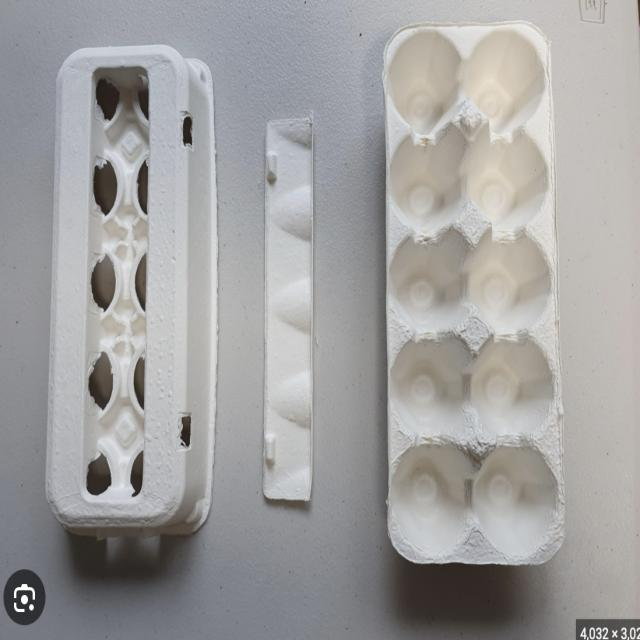biodegradable: (370, 10, 580, 600), (49, 39, 219, 550), (242, 94, 335, 550)
